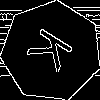K: (26, 26, 83, 79)
